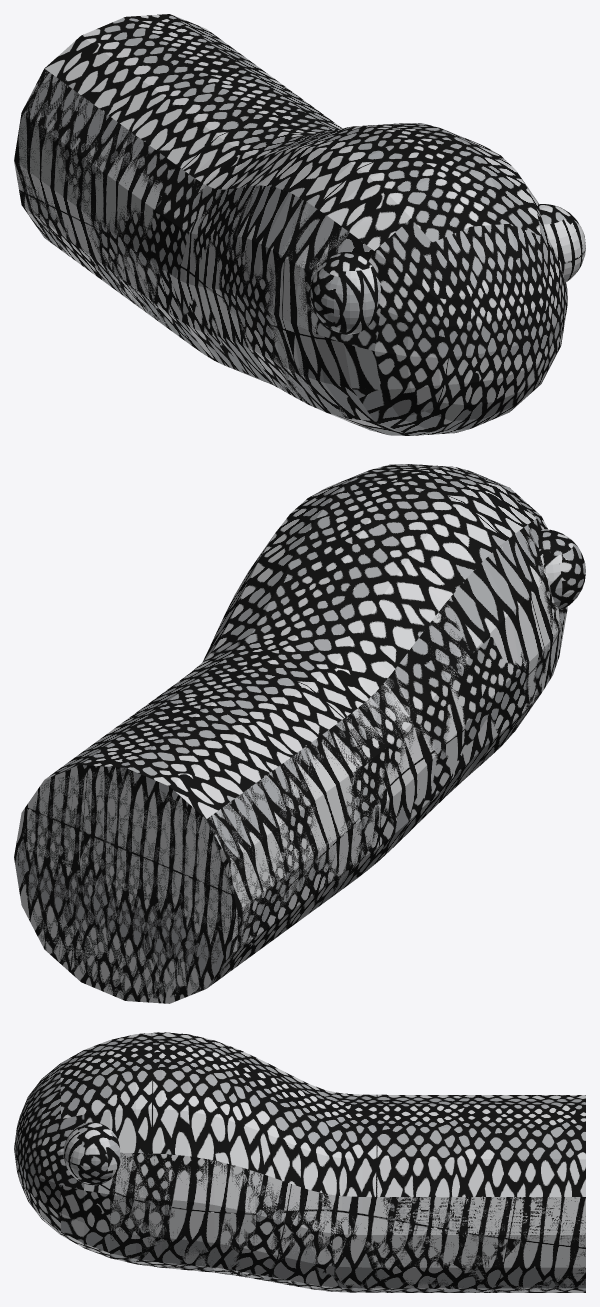
File: snake_head2.gltf
3 renders of one model, top to bottom at view 1: azimuth 30°, elevation 25°; view 2: azimuth 150°, elevation 25°; view 3: azimuth 270°, elevation 25°, orthographic. The views are drawn at different scales.
Parts seen in each view (by area): view 1: Cube.002; view 2: Cube.002; view 3: Cube.002.
Boxes of the visible parts, x1,y1,x2,y2 form: Cube.002: (14,14,585,435); Cube.002: (14,464,585,1003); Cube.002: (14,1032,585,1292).
Size of the model in its own units: 5.56 by 6.27 by 13.66.
1 material, 1 textured.
